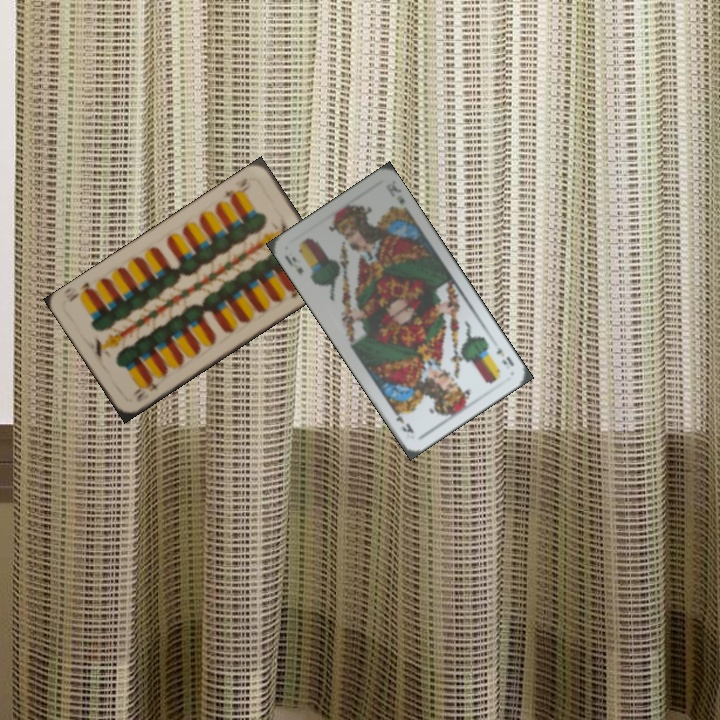E10: (128, 376, 162, 405), (220, 173, 250, 204)
EK: (490, 336, 516, 369), (281, 251, 306, 277)
